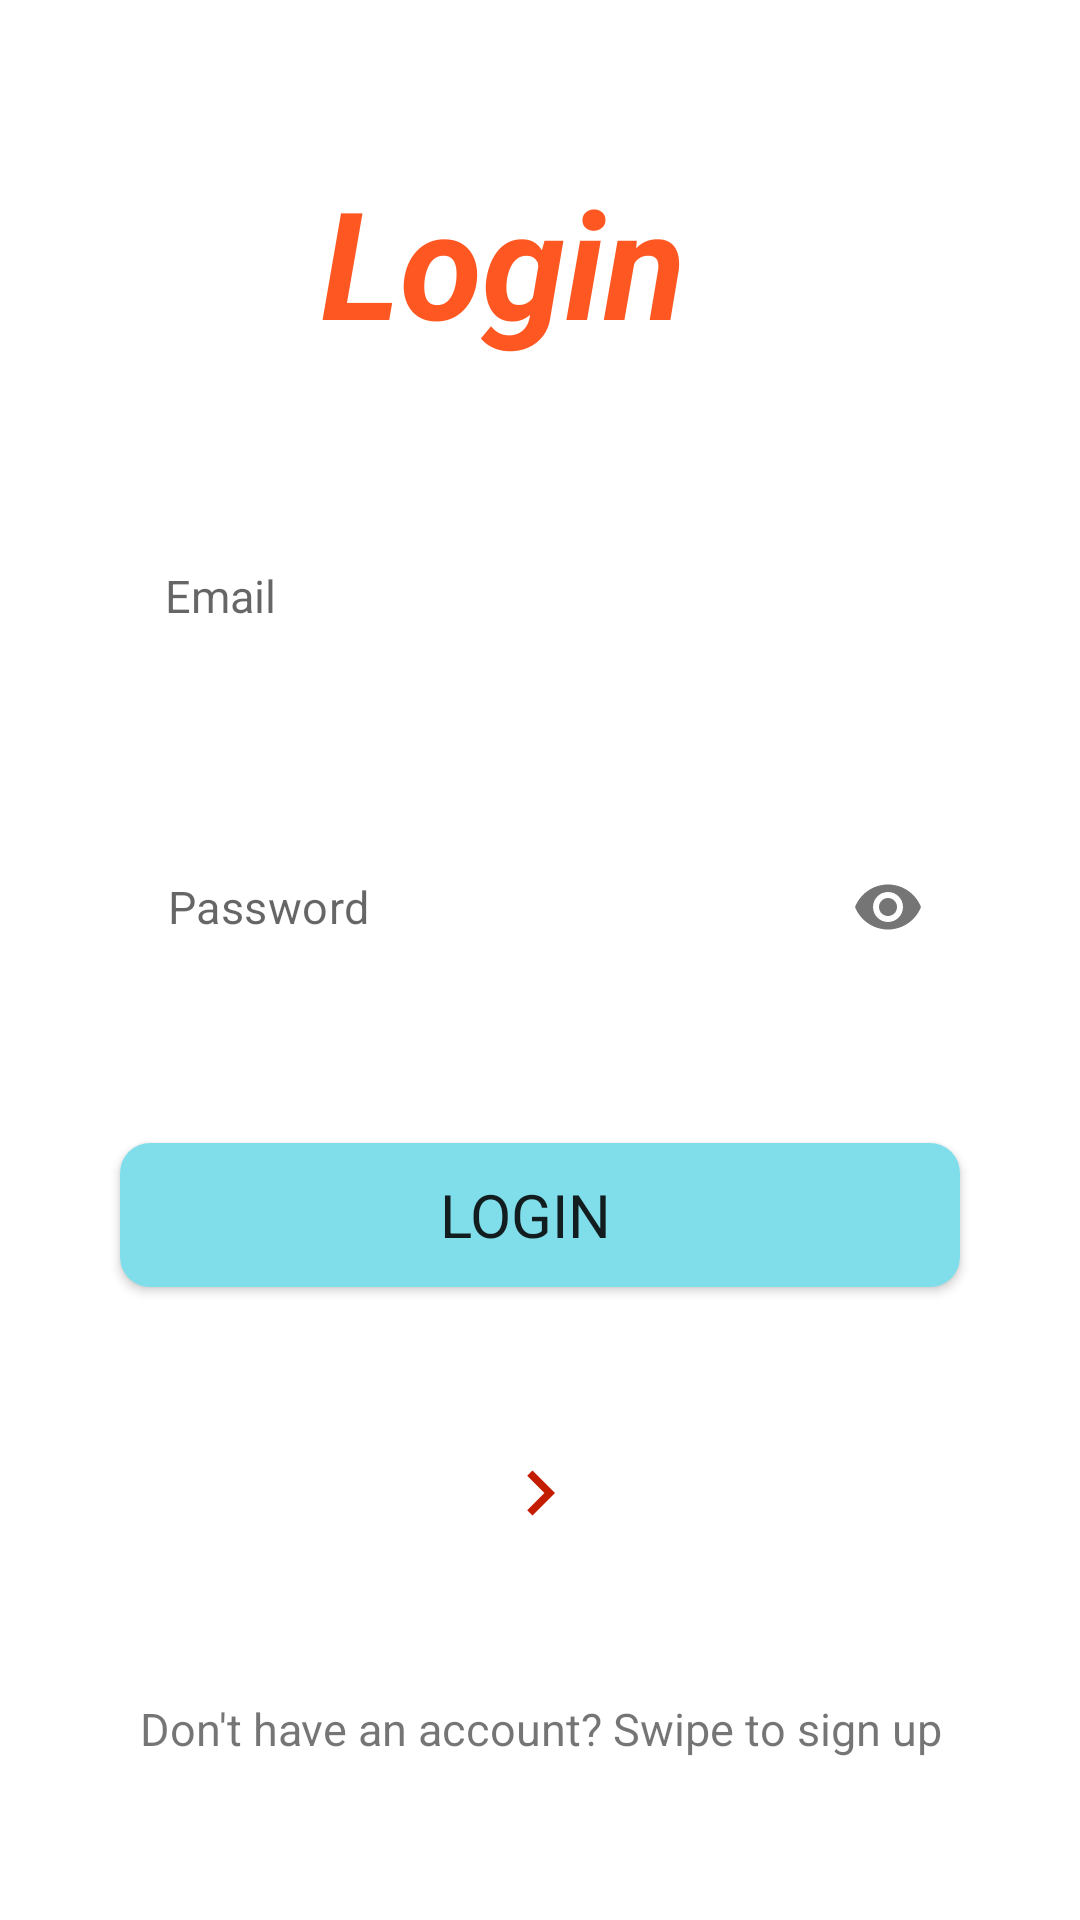

Where to tap for icons on this 1080x1920 app screen, as [x,y]:
keyboard arrow right: [541,1493]
